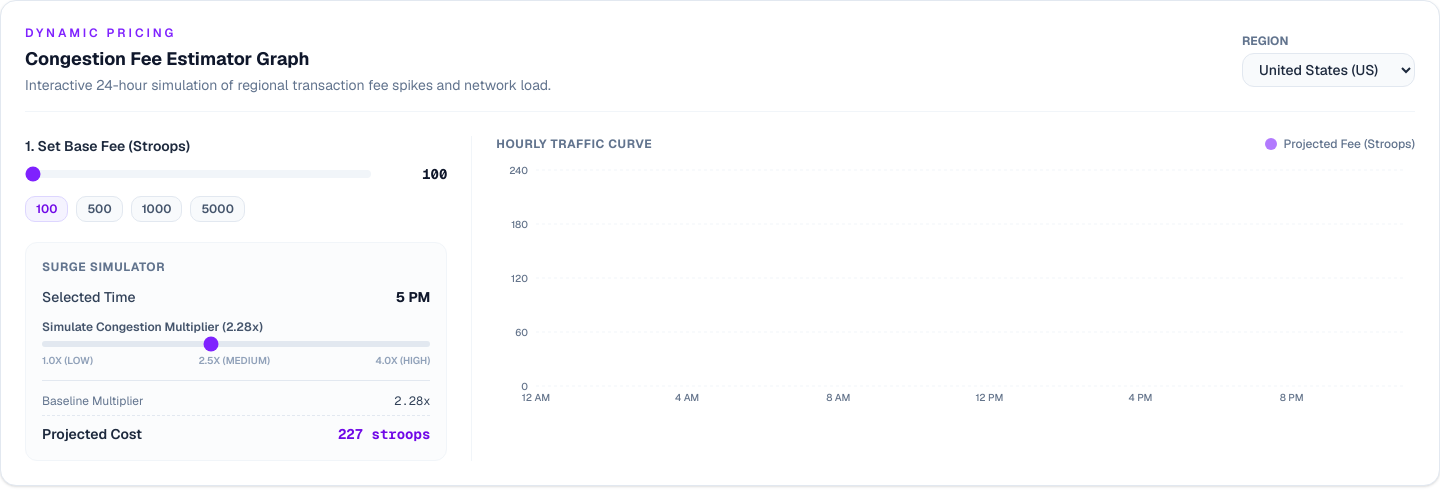
Test: CongestionFeeEstimatorGraph Component › handles base fee changes via presets
Click 1000 preset button
Click the button "1000" at (156, 209), box [131,196,182,222]
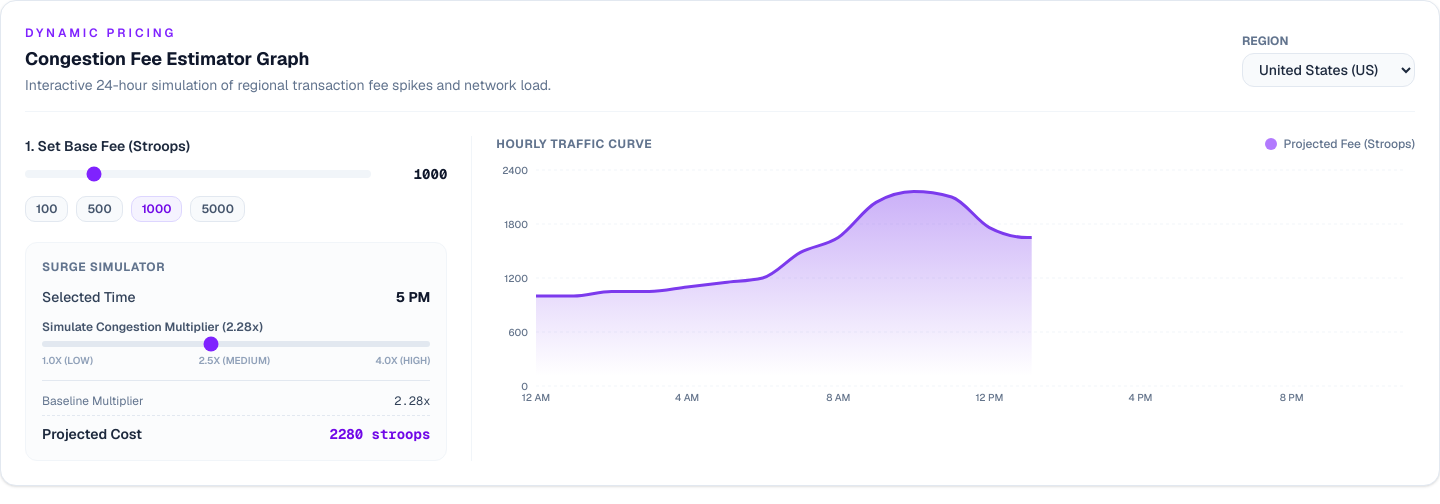
Now the text "1000" is shown, box [414,165,447,183]
